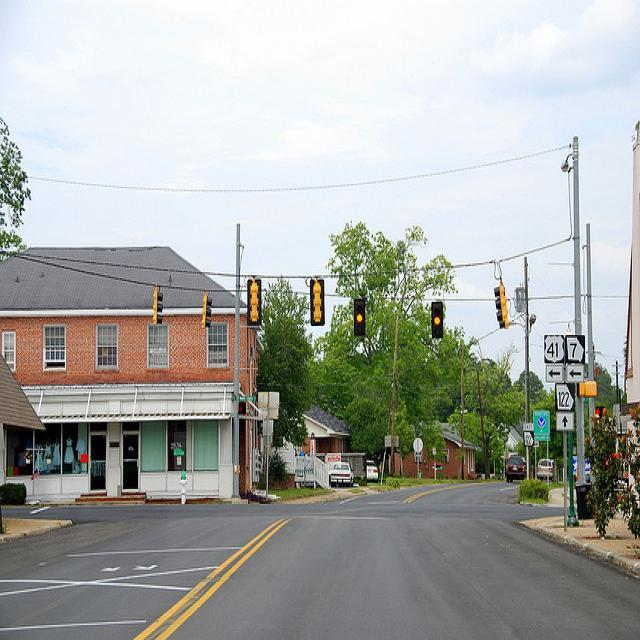fire_hydrant: (178, 468, 188, 504)
